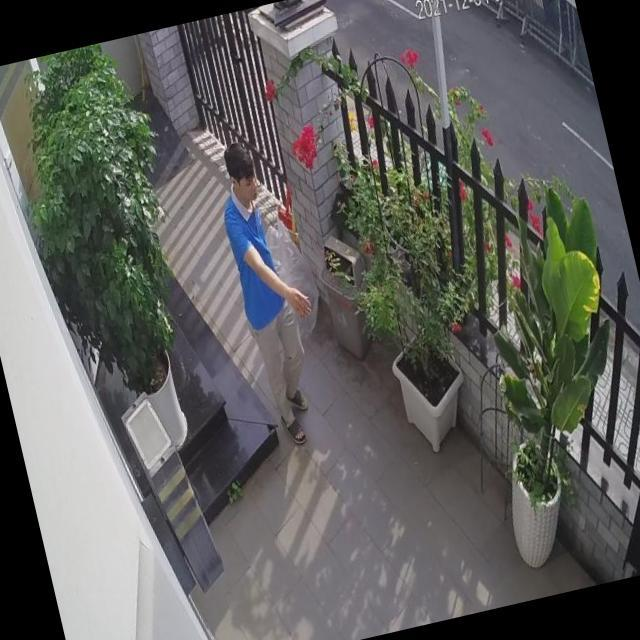person: (208, 134, 340, 446)
